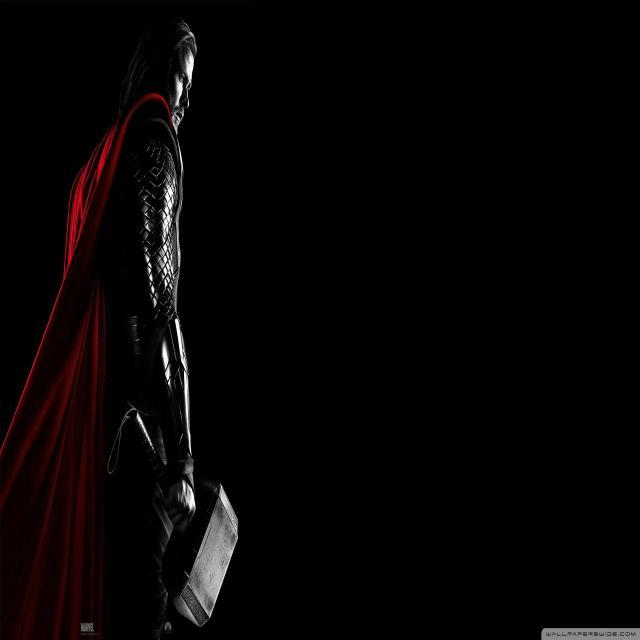hammer: (105, 389, 252, 632)
